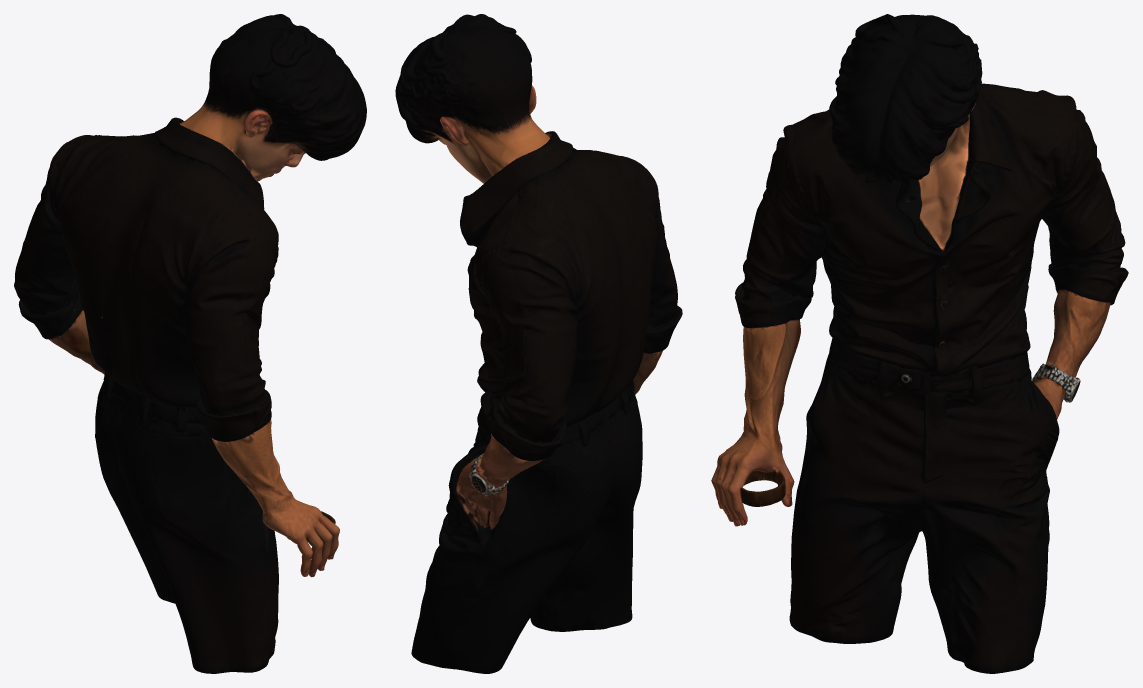
3 views of the same model, side by side, from view 1: azimuth 30°, elevation 25°; view 2: azimuth 150°, elevation 25°; view 3: azimuth 270°, elevation 25° (orthographic). The views are drawn at different scales.
Parts seen in each view (by area): view 1: tripo_node_153b554d-070a-4ae3-8682-c3d13c056d53; view 2: tripo_node_153b554d-070a-4ae3-8682-c3d13c056d53; view 3: tripo_node_153b554d-070a-4ae3-8682-c3d13c056d53.
Part boxes in pixels (x1,y1,x2,y2): tripo_node_153b554d-070a-4ae3-8682-c3d13c056d53: (14, 14, 366, 673); tripo_node_153b554d-070a-4ae3-8682-c3d13c056d53: (395, 14, 682, 673); tripo_node_153b554d-070a-4ae3-8682-c3d13c056d53: (711, 14, 1128, 673).
Bounding box in the file's own units: 0.4311 × 0.9803 × 0.5704.
Materials: 1 (1 with a texture image).
